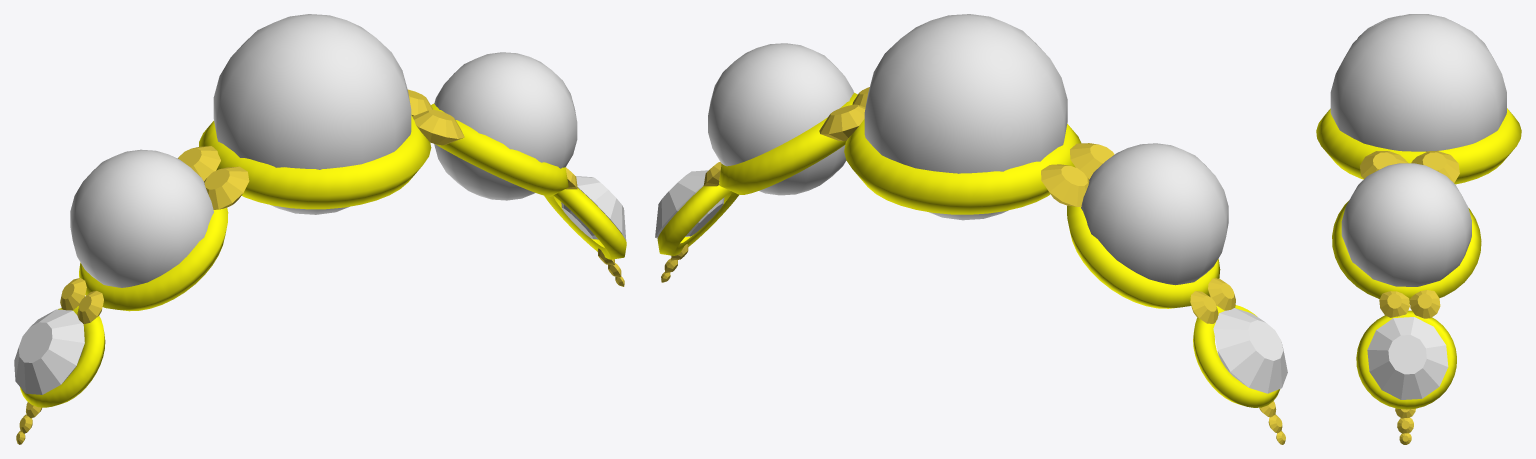
3 views of the same model, side by side, from view 1: azimuth 30°, elevation 25°; view 2: azimuth 150°, elevation 25°; view 3: azimuth 270°, elevation 25° (orthographic). The views are drawn at different scales.
Visible parts, largest first — view 1: 2 Perle (×3); view 2: 2 Perle (×3); view 3: 2 Perle (×3).
Part boxes in pixels (bbox=[...]): 2 Perle (×3): bbox=[14, 14, 626, 444]; 2 Perle (×3): bbox=[655, 14, 1287, 444]; 2 Perle (×3): bbox=[1316, 14, 1521, 444].
Size of the model in its own units: 82.58 by 44.46 by 27.41.
